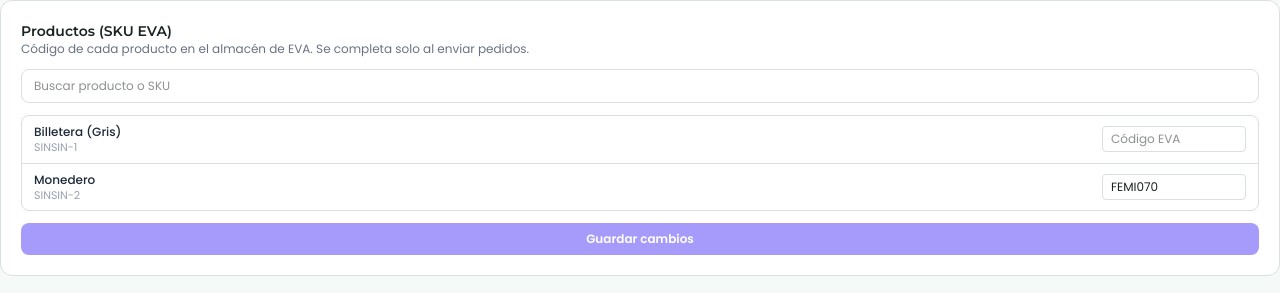
Test: guardar manda los cambios con PUT y los vaciados con DELETE
The image size is (1280, 293).
In the field named "SKU EVA de Billetera (Gris)": point(1174, 139) [1102,126,1246,152], type " FEMI064 "
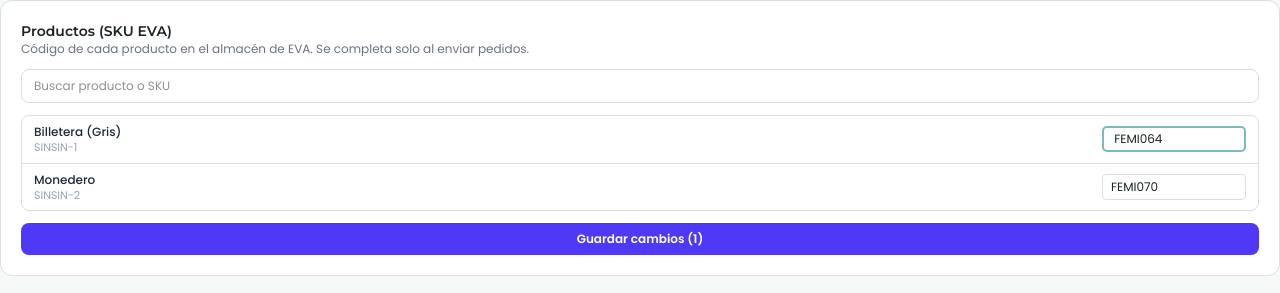
Clear the field named "SKU EVA de Monedero": point(1174, 187) [1102,174,1246,200]
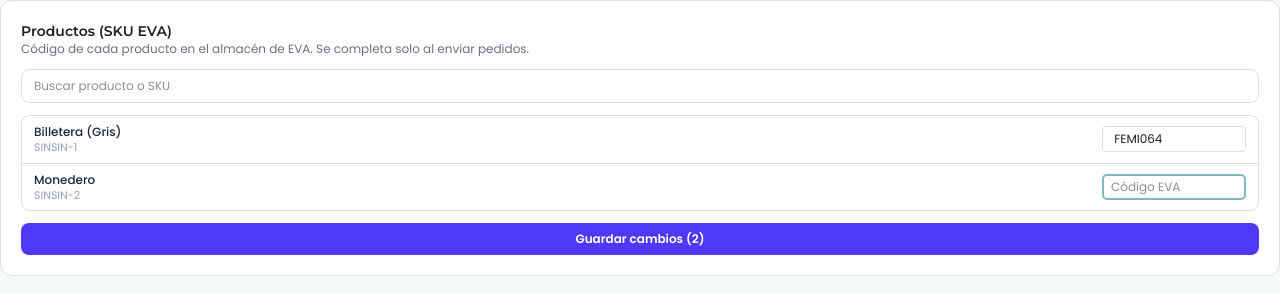
Click the button "Guardar cambios (2)": point(640, 239) [21,223,1259,255]
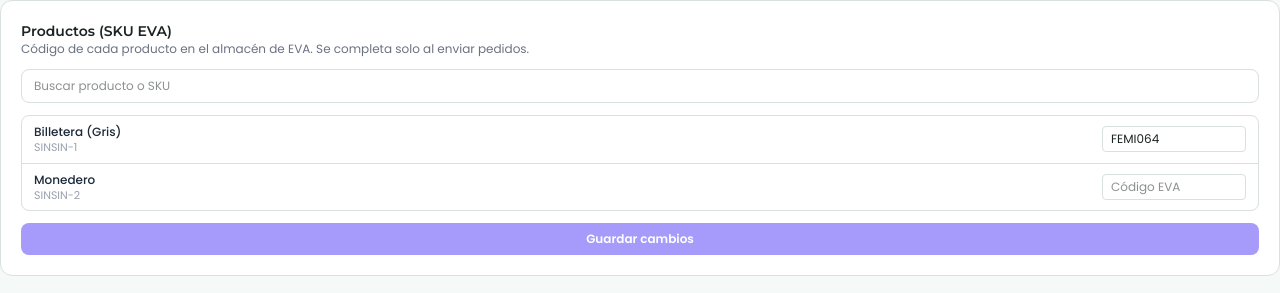
Result: the button "Guardar cambios" is disabled at [21,223,1259,255]
